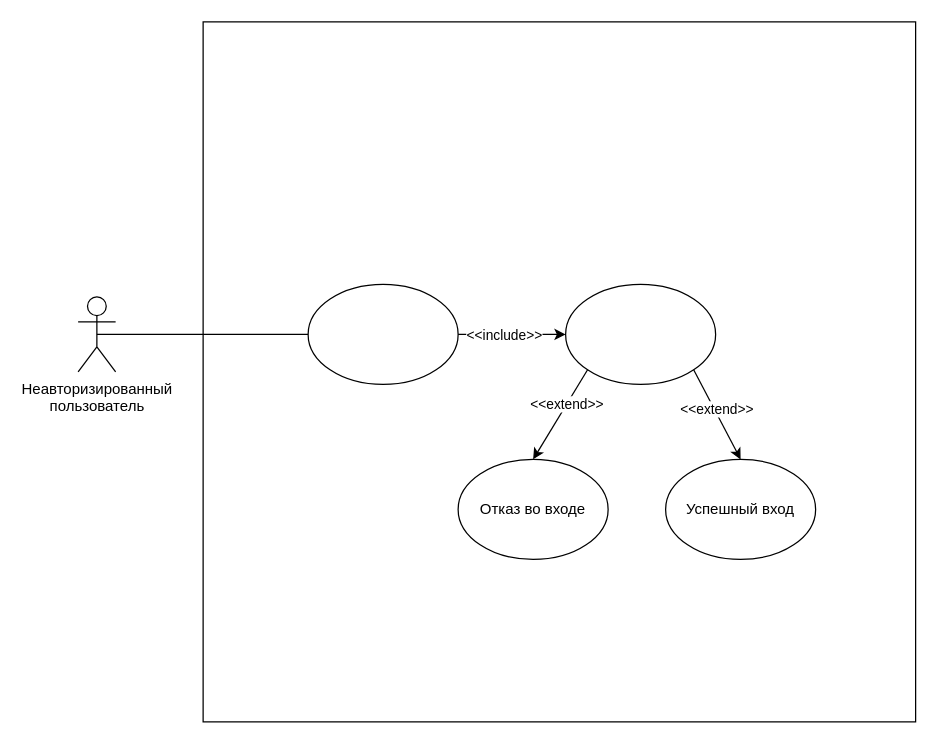
Image size: 938x744. Some labels were removed from this diagram. The shapes that lost their labels are listed below. From the top down, each one's centre as x and y in pixels, then its label:
At (382,333): "Ввести логин и пароль".
At (640,333): "Проверка учетных данных".
